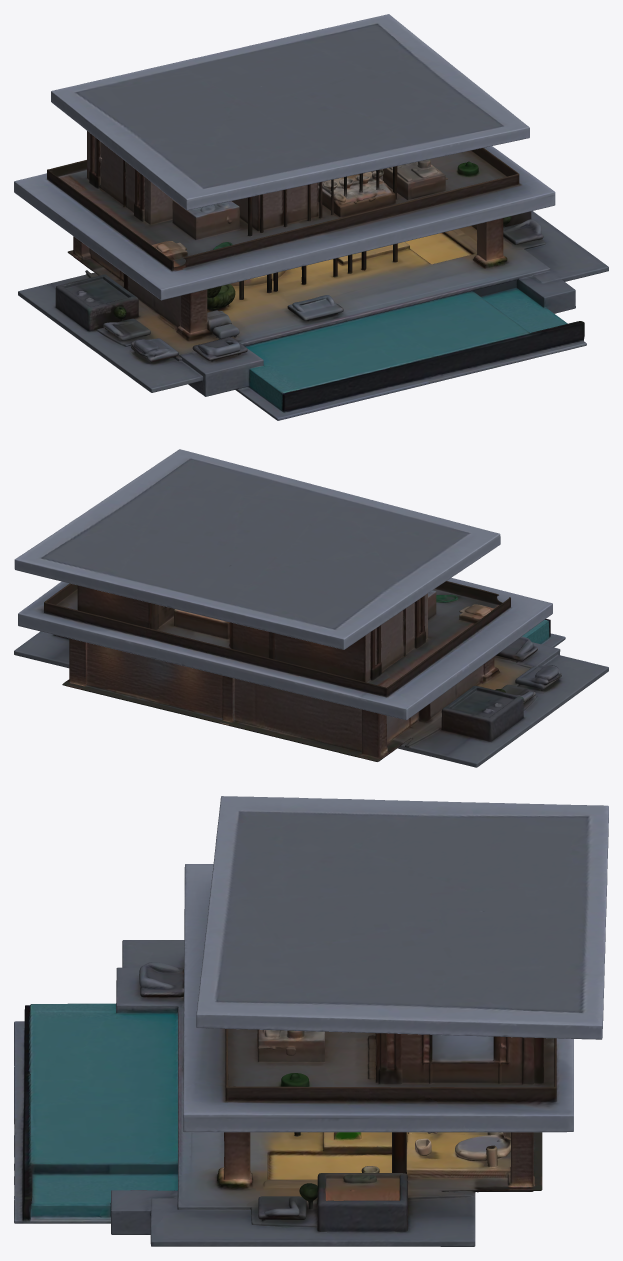
File: modern-house.glb
3 views of the same model, one above another, from view 1: azimuth 30°, elevation 25°; view 2: azimuth 150°, elevation 25°; view 3: azimuth 270°, elevation 25° (orthographic). The views are drawn at different scales.
Parts seen in each view (by area): view 1: tripo_node_8e66e9a9-59ab-4f40-bfc7-dc4ddd43b057; view 2: tripo_node_8e66e9a9-59ab-4f40-bfc7-dc4ddd43b057; view 3: tripo_node_8e66e9a9-59ab-4f40-bfc7-dc4ddd43b057.
Part boxes in pixels (x1,y1,x2,y2): tripo_node_8e66e9a9-59ab-4f40-bfc7-dc4ddd43b057: [14, 14, 608, 420]; tripo_node_8e66e9a9-59ab-4f40-bfc7-dc4ddd43b057: [14, 449, 608, 767]; tripo_node_8e66e9a9-59ab-4f40-bfc7-dc4ddd43b057: [14, 796, 608, 1246].
Size of the model in its own units: 1 by 0.3457 by 0.8337.
Materials: 1 (1 with a texture image).
